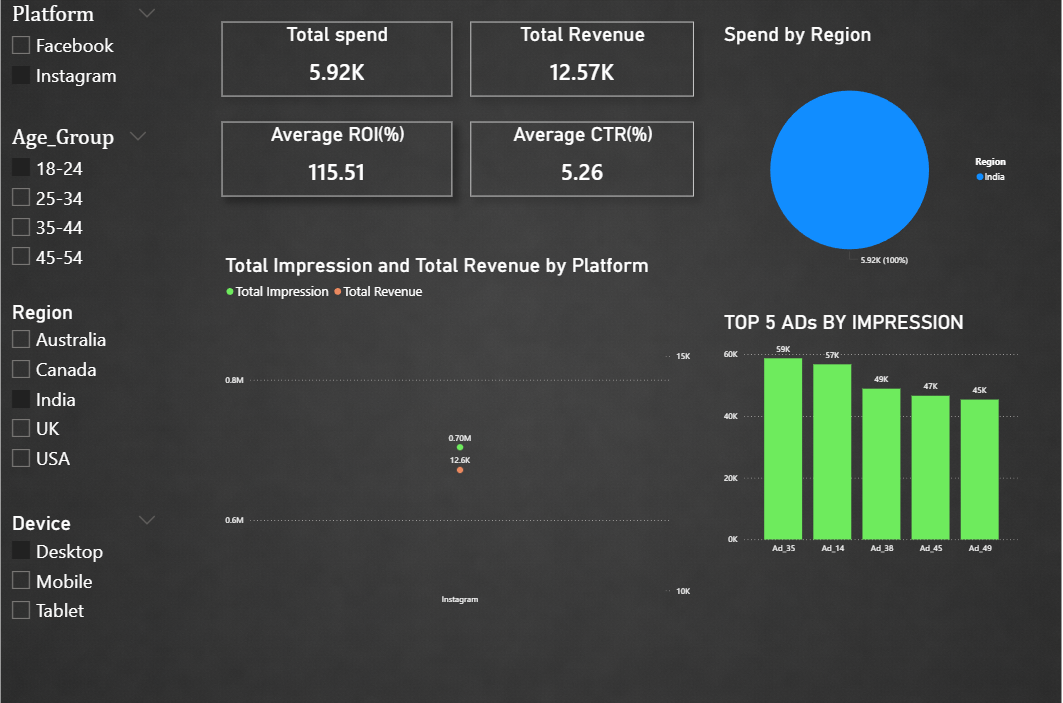

What the dashboard file says about the page in this screenshot:
{"tool":"powerbi","page":{"name":"Page 1","canvas":[1920,1080],"ordinal":0},"visuals":[{"type":"slicer","fields":{"Values":["Social_Media_Ads_Data.Platform"]},"box":[195,23.3,233.3,176.7],"z":0},{"type":"slicer","fields":{"Values":["Social_Media_Ads_Data.Age_Group"]},"box":[195,200,220,253.3],"z":1},{"type":"slicer","fields":{"Values":["Social_Media_Ads_Data.Region"]},"box":[195,453.3,233.3,270],"z":2},{"type":"slicer","fields":{"Values":["Social_Media_Ads_Data.Device"]},"box":[195,760,233.3,295],"z":3},{"type":"cardVisual","title":"Total spend","fields":{"Data":["Social_Media_Ads_Data.Total Spend"]},"box":[511.7,56.7,333.3,108.3],"z":4},{"type":"cardVisual","title":"Total Revenue","fields":{"Data":["Social_Media_Ads_Data.Total Revenue"]},"box":[871.7,56.7,323.3,108.3],"z":5},{"type":"cardVisual","title":"Average ROI(%)","fields":{"Data":["Social_Media_Ads_Data.Average ROI"]},"box":[511.7,200,333.3,108.3],"z":6},{"type":"cardVisual","title":"Average CTR(%)","fields":{"Data":["Social_Media_Ads_Data.Average CTR(%)"]},"box":[871.7,200,323.3,108.3],"z":7},{"type":"pieChart","title":"Spend by Region","fields":{"Category":["Social_Media_Ads_Data.Region"],"Y":["Sum(Social_Media_Ads_Data.Spend)"]},"box":[1235,56.7,438.3,396.7],"z":8},{"type":"clusteredColumnChart","title":"TOP 5 ADs BY IMPRESSION","fields":{"Category":["Social_Media_Ads_Data.Ad_Name"],"Y":["Social_Media_Ads_Data.Total Impression"]},"box":[1235,475,438.3,361.7],"z":9},{"type":"lineChart","fields":{"Category":["Social_Media_Ads_Data.Platform"],"Y":["Social_Media_Ads_Data.Total Impression"],"Y2":["Social_Media_Ads_Data.Total Revenue"]},"box":[511.7,390,683.3,518.3],"z":10}]}

Visuals, with their boxes on the page's 1920x1080 design canvas (x1, y1, x2, y2). These are canvas units, not pixel positions in the 1063x703 screenshot, which may show the page scaled, cropped or inside an application window:
slicer - Social_Media_Ads_Data.Platform: 195 23 428 200
slicer - Social_Media_Ads_Data.Age_Group: 195 200 415 453
slicer - Social_Media_Ads_Data.Region: 195 453 428 723
slicer - Social_Media_Ads_Data.Device: 195 760 428 1055
"Total spend" cardVisual: 512 57 845 165
"Total Revenue" cardVisual: 872 57 1195 165
"Average ROI(%)" cardVisual: 512 200 845 308
"Average CTR(%)" cardVisual: 872 200 1195 308
"Spend by Region" pieChart: 1235 57 1673 453
"TOP 5 ADs BY IMPRESSION" clusteredColumnChart: 1235 475 1673 837
lineChart - Social_Media_Ads_Data.Platform x Social_Media_Ads_Data.Total Impression: 512 390 1195 908
